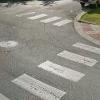Crosswalk: (20, 6, 89, 100)
